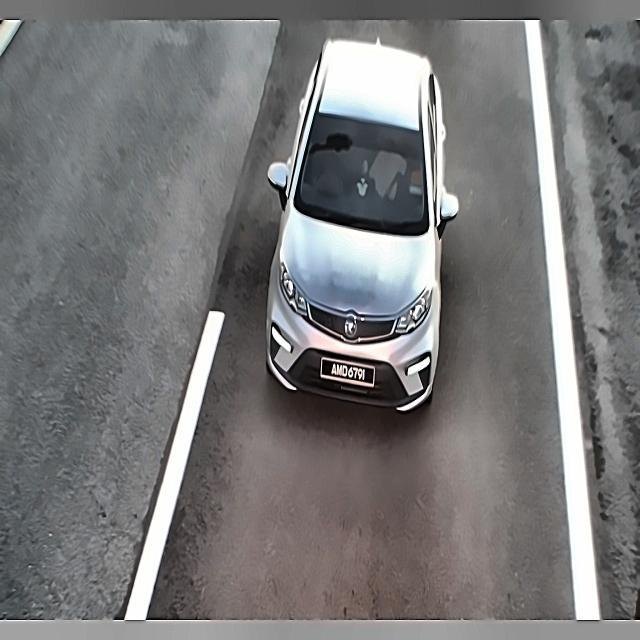car: (317, 346, 378, 401)
